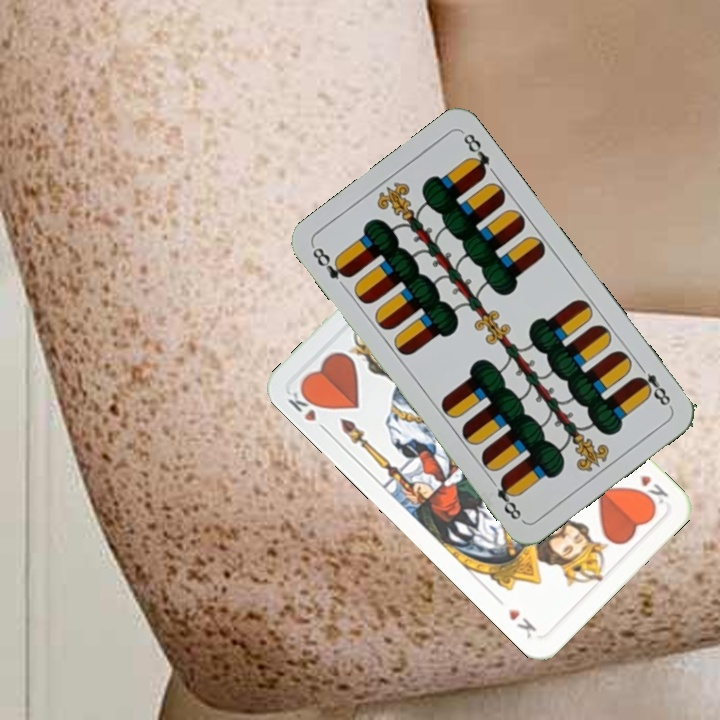E8: (631, 359, 675, 411), (308, 243, 353, 282)
HK: (284, 382, 331, 436), (631, 470, 671, 510)
